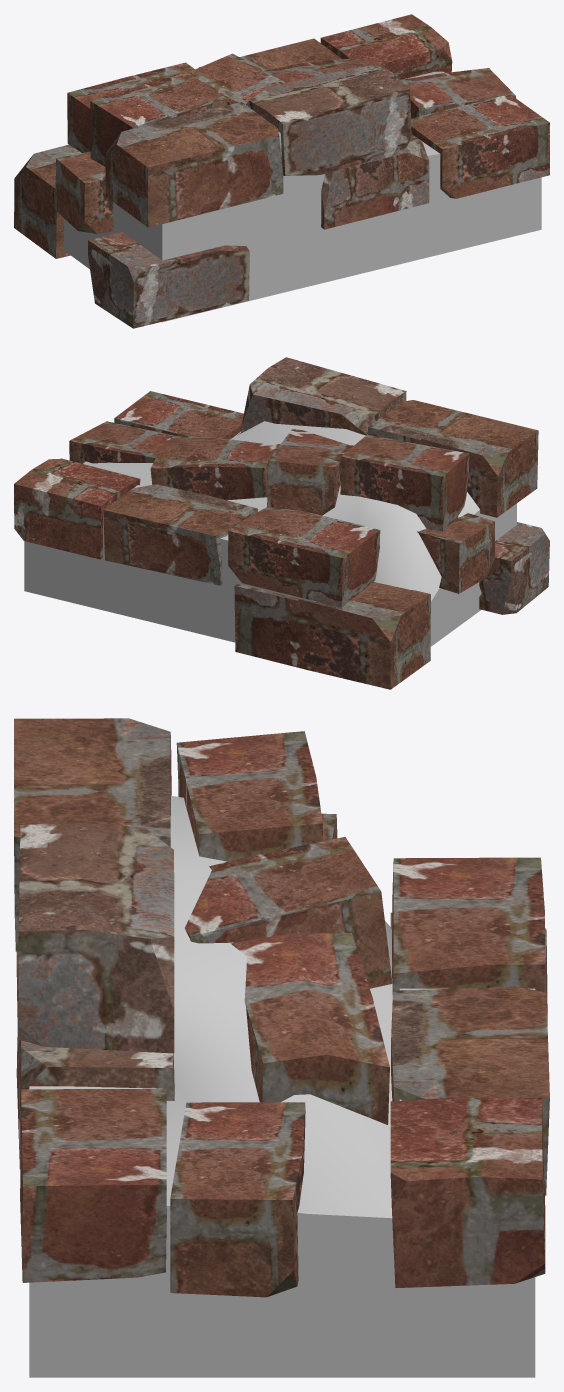
File: SM_Wall_Thick_Ruined_013.fbx
3 views of the same model, one above another, from view 1: azimuth 30°, elevation 25°; view 2: azimuth 150°, elevation 25°; view 3: azimuth 270°, elevation 25° (orthographic). The views are drawn at different scales.
Parts seen in each view (by area): view 1: SM_Wall_Thick_Ruined_013_LOD0; view 2: SM_Wall_Thick_Ruined_013_LOD0; view 3: SM_Wall_Thick_Ruined_013_LOD0.
Part boxes in pixels (box(x1,y1,x2,y2)): SM_Wall_Thick_Ruined_013_LOD0: box(14, 14, 549, 328); SM_Wall_Thick_Ruined_013_LOD0: box(14, 357, 549, 689); SM_Wall_Thick_Ruined_013_LOD0: box(14, 718, 549, 1377).
Size of what is drawn, in the model's own units: 228 by 93.14 by 132.
